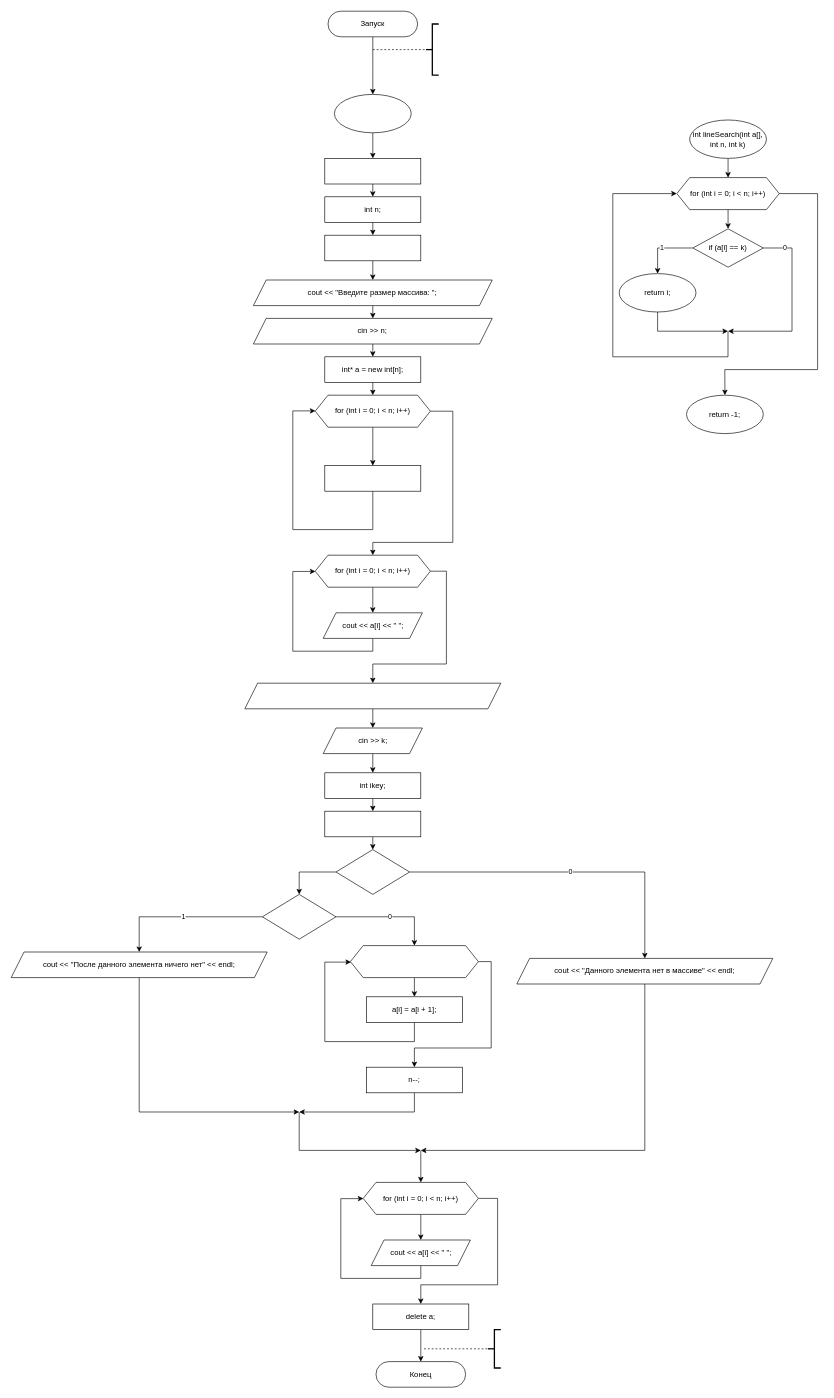
Image size: 834x1398. Some labels were removed from this diagram. Each missing label, with the box of its shape:
#include <iostream> using namespace std;: (425, 23, 439, 76)
a[i] = rand() % 100;: (324, 465, 421, 491)
cout << endl << "Введите то число, после которого нужно удалить элемент: ";: (244, 683, 501, 709)
for (int i = ikey + 1; i < n - 1; i++): (350, 945, 478, 978)
if (ikey != -1): (335, 849, 410, 894)
if (ikey == n - 1): (262, 894, 336, 939)
ikey = lineSearch(a, n, k);: (324, 811, 421, 837)
int k;: (324, 235, 421, 261)
int main() {: (334, 94, 411, 133)
return 0; }: (487, 1329, 501, 1368)
setlocale(LC_ALL, "Russian");: (324, 158, 421, 184)
